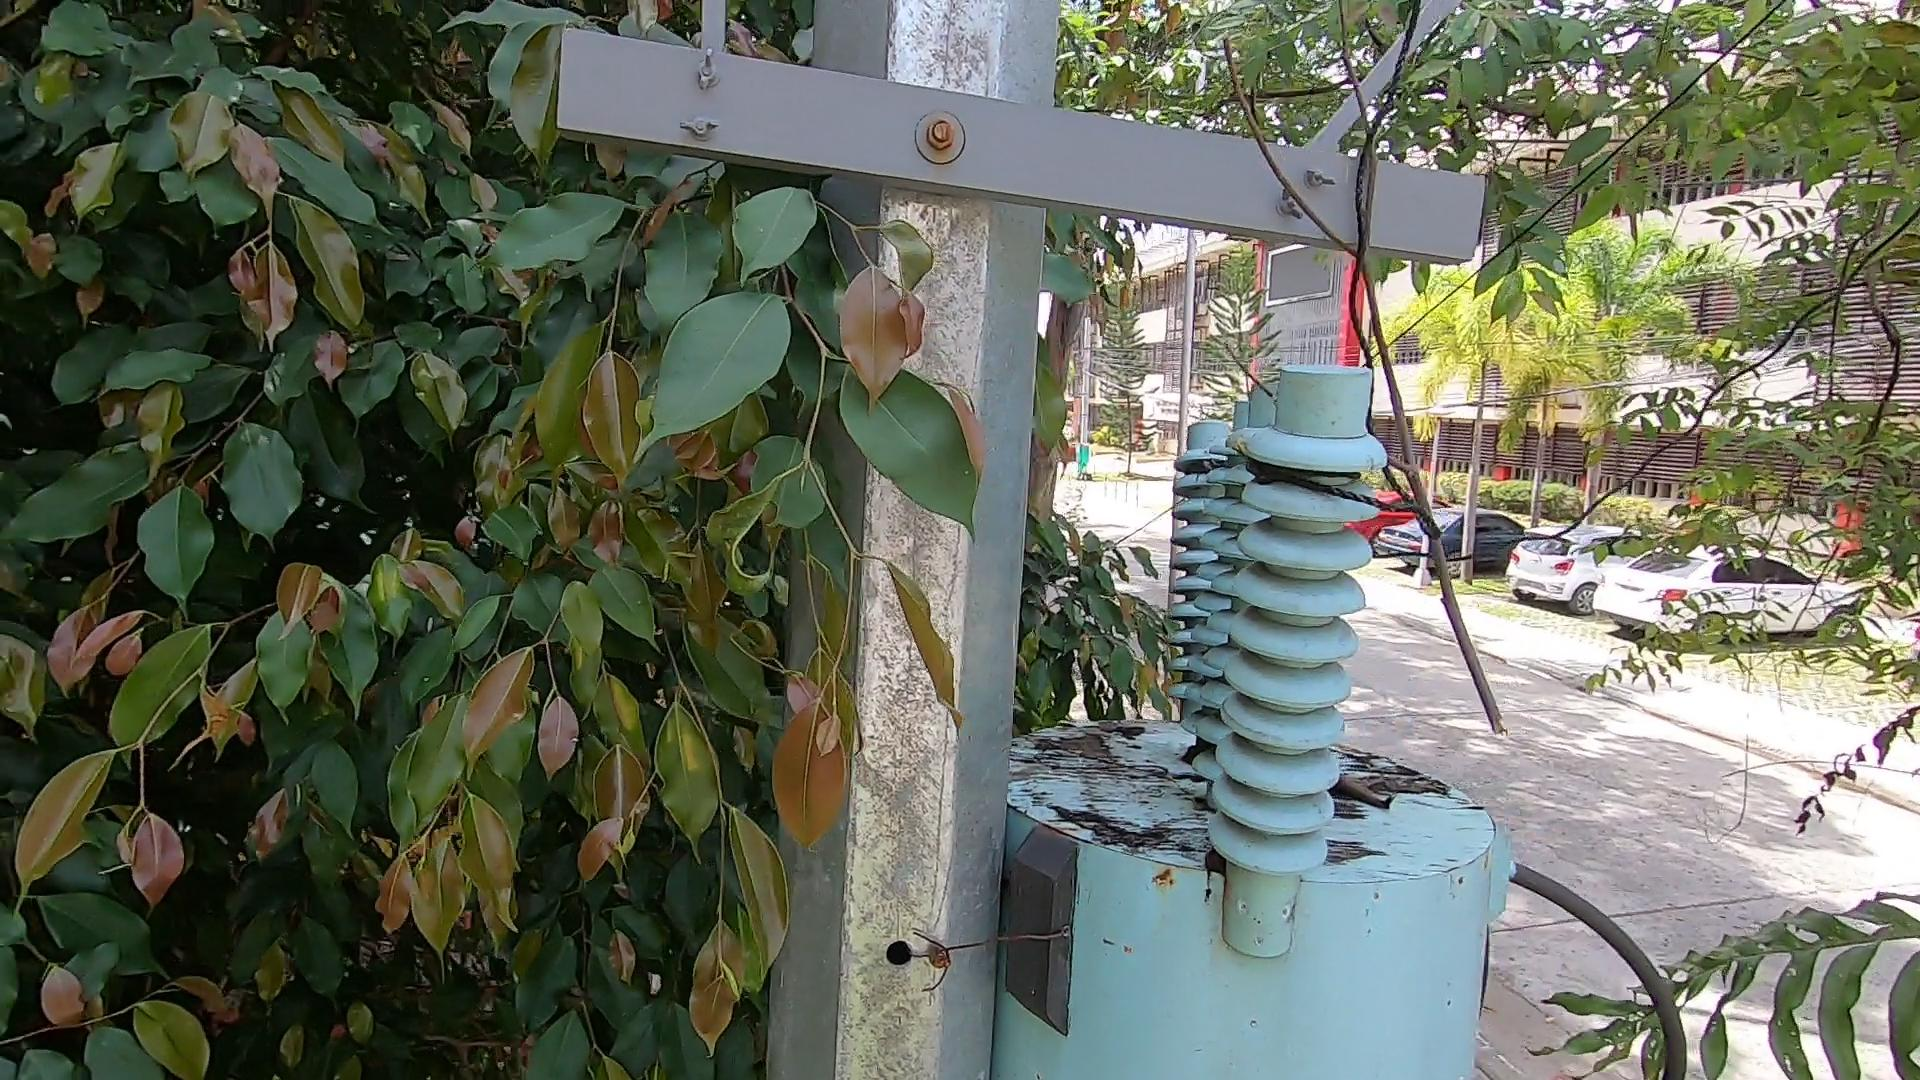leaf: (1333, 762, 1404, 814)
tree branch: (1211, 16, 1556, 737)
